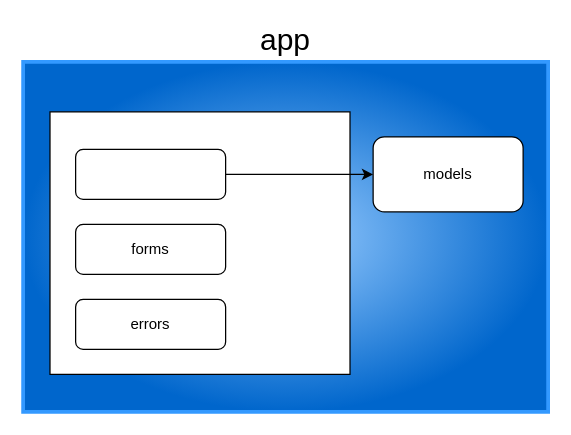
Some shapes in this 571 by 435 pixel diagram are drawn without their labels. Here are the shapes that lost their labels. From the top down, the box of each, then its label:
(74, 148, 226, 199): views
(49, 111, 350, 374): main
